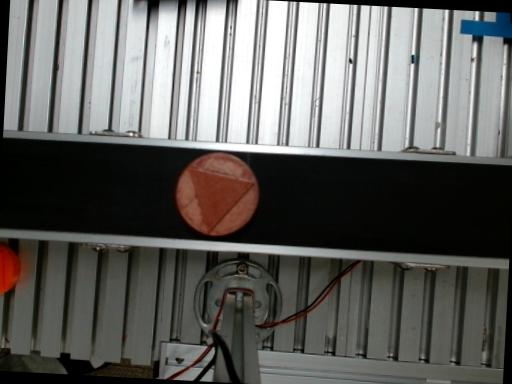Brown_Waper: (175, 153, 259, 236)
Not_Square: (187, 167, 254, 234)
